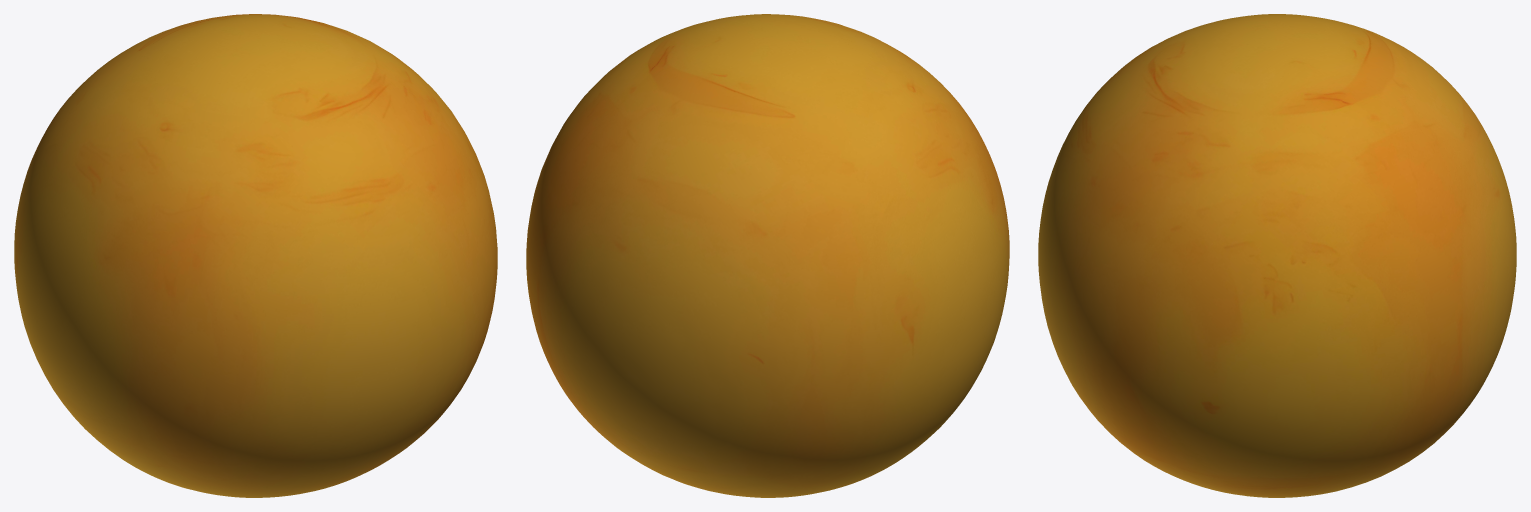
File: Sun.obj
3 views of the same model, side by side, from view 1: azimuth 30°, elevation 25°; view 2: azimuth 150°, elevation 25°; view 3: azimuth 270°, elevation 25° (orthographic).
Visible parts, largest first — view 1: tripo_node_e7ab2c96-bddc-49e9-90fb-1bcb40d3379b; view 2: tripo_node_e7ab2c96-bddc-49e9-90fb-1bcb40d3379b; view 3: tripo_node_e7ab2c96-bddc-49e9-90fb-1bcb40d3379b.
Part boxes in pixels (x1=…): tripo_node_e7ab2c96-bddc-49e9-90fb-1bcb40d3379b: x1=14, y1=14, x2=497, y2=497; tripo_node_e7ab2c96-bddc-49e9-90fb-1bcb40d3379b: x1=526, y1=14, x2=1009, y2=497; tripo_node_e7ab2c96-bddc-49e9-90fb-1bcb40d3379b: x1=1038, y1=14, x2=1516, y2=497.
Size of the model in its own units: 0.9952 by 0.9995 by 0.9958.
1 material, 1 textured.
